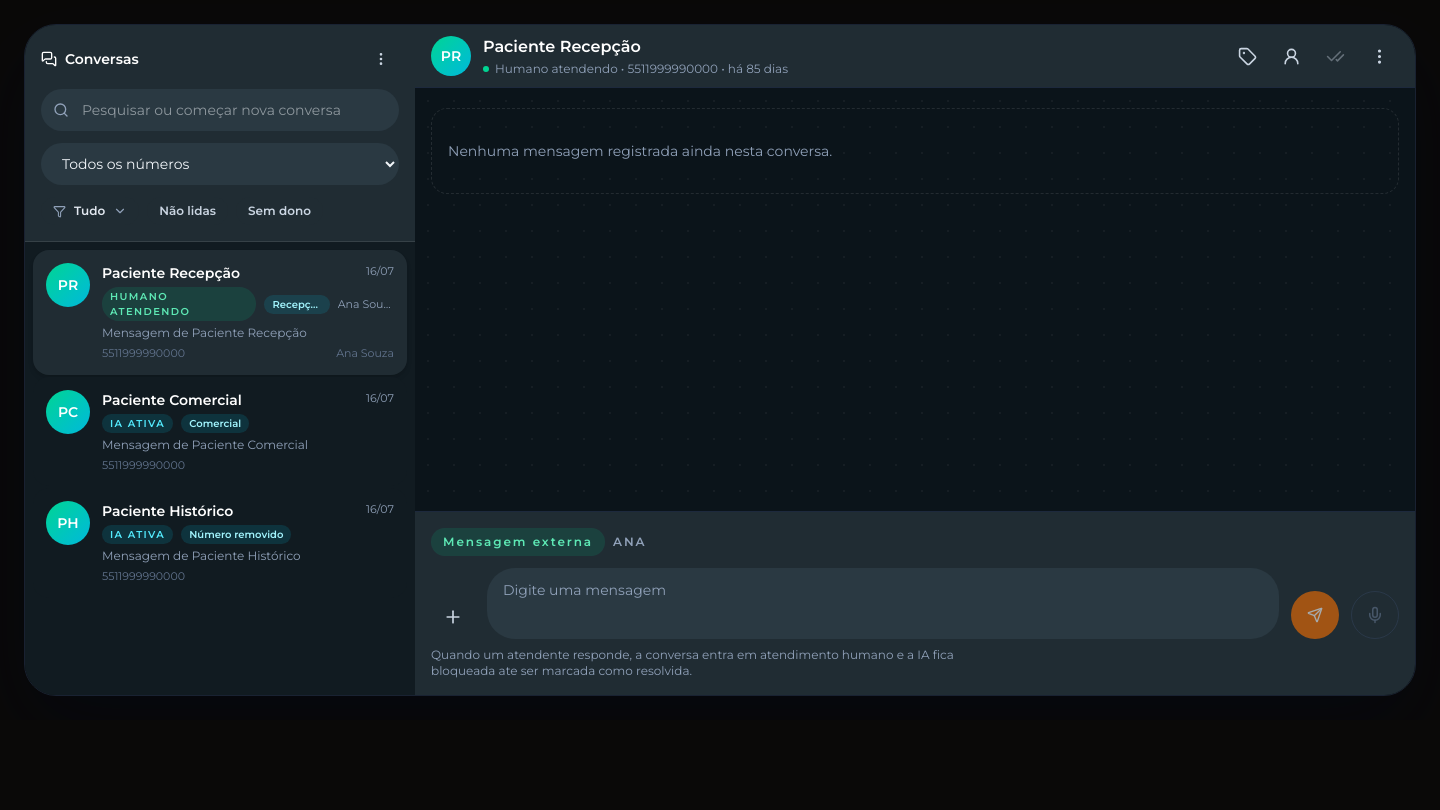
Test: TenantConversationsPage — caixa unificada › o rótulo não confunde quem é responsável com quem falou
Click the button named "Mais ações" at point(1379, 56), box 1359,36 -> 1399,76
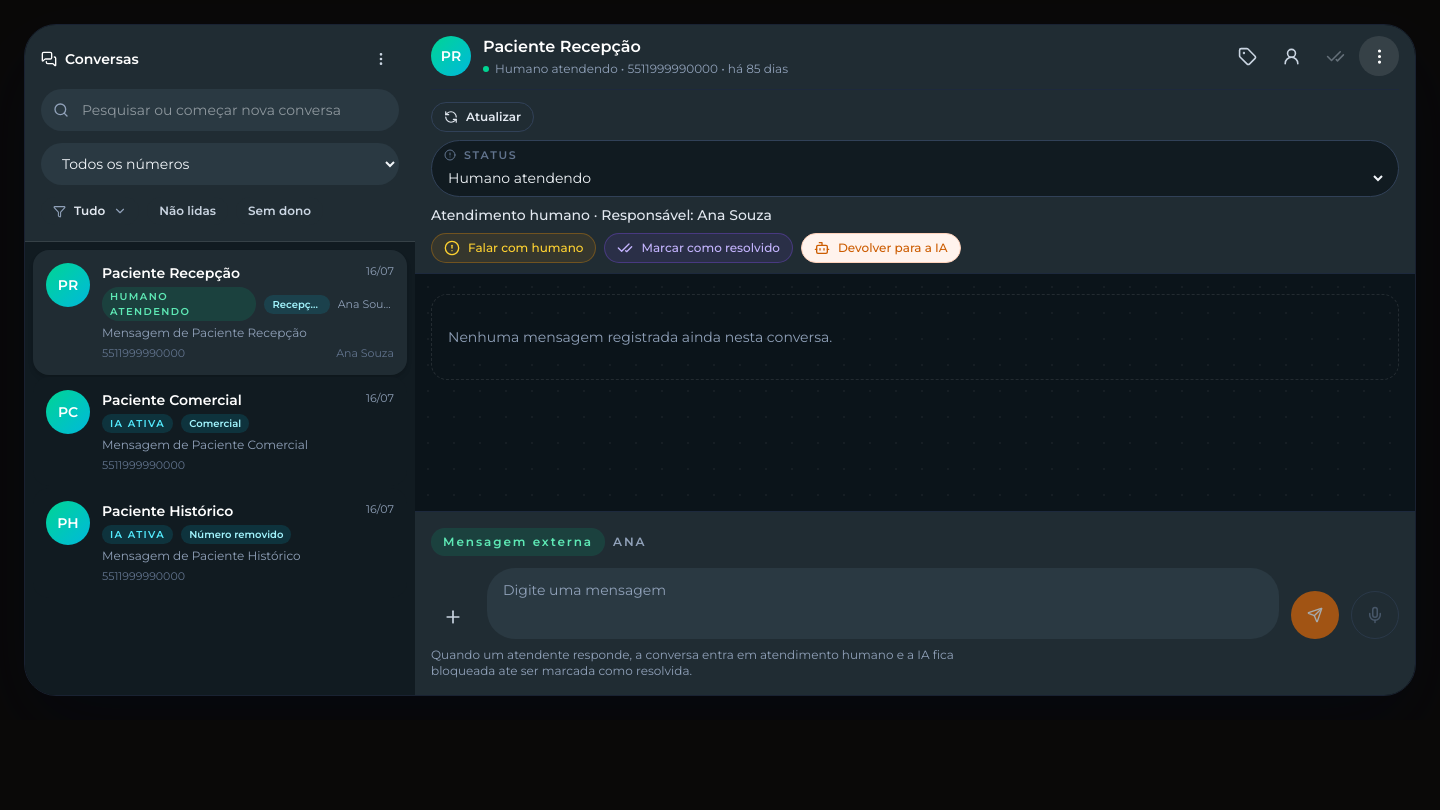
Check: the text "Atendimento humano · Responsável: Ana Souza" is shown, box 431,206 -> 772,224
